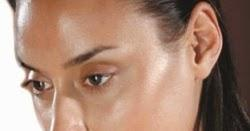Oily-Skin: (57, 10, 91, 59), (146, 40, 168, 101), (17, 0, 32, 57), (107, 94, 129, 125), (57, 77, 63, 91)
